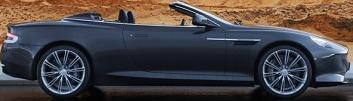front_view: (308, 31, 353, 86)
headlight: (310, 33, 348, 55)
